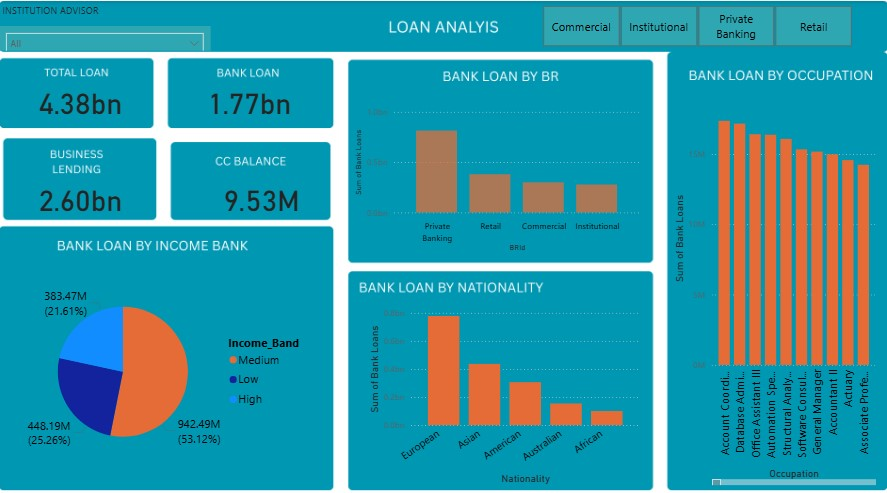

The page's visual inventory and layout, read from the dashboard file:
{"tool":"powerbi","page":{"name":"LOANS ANALYSIS","canvas":[1280,720],"ordinal":1},"visuals":[{"type":"card","fields":{"Values":["Banking_Clients.Total_Loan"]},"box":[21.8,102.5,188.1,79],"z":0},{"type":"card","fields":{"Values":["Sum(Banking_Clients.Business Lending)"]},"box":[21.8,240.2,188.1,79],"z":1000},{"type":"card","fields":{"Values":["Sum(Banking_Clients.Bank Loans)"]},"box":[260.4,102.5,188.1,79],"z":2000},{"type":"card","fields":{"Values":["Sum(Banking_Clients.Credit Card Balance)"]},"box":[277.2,240.2,188.1,79],"z":3000},{"type":"pieChart","fields":{"Category":["Banking_Clients.Income_Band"],"Y":["Sum(Banking_Clients.Bank Loans)"]},"box":[21.8,359.5,426.7,330.9],"z":4000},{"type":"clusteredColumnChart","fields":{"Category":["Banking_Clients.BRId"],"Y":["Sum(Banking_Clients.Bank Loans)"]},"box":[498.9,142.8,414.9,216.7],"z":5000},{"type":"clusteredColumnChart","fields":{"Category":["Banking_Clients.Nationality"],"Y":["Sum(Banking_Clients.Bank Loans)"]},"box":[519.1,428.3,394.8,262],"z":6000},{"type":"clusteredColumnChart","fields":{"Category":["Banking_Clients.Occupation"],"Y":["Sum(Banking_Clients.Bank Loans)"]},"box":[950.8,142.8,297.3,547.6],"z":7000},{"type":"slicer","fields":{"Values":["Banking_Clients.BRId"]},"box":[745.8,0,487.1,70.6],"z":8000},{"type":"textbox","box":[0,0,168,35.3],"z":9000},{"type":"slicer","fields":{"Values":["Banking_Clients.IAId"]},"box":[0,35.3,299.5,35.3],"z":9001}]}

Visuals, with their boxes in screenshot pixels (x1, y1, x2, y2), scaled from the page's 1280x720 canvas onto the 887x493 screenshot:
card - Banking_Clients.Total_Loan: locate(15, 70, 145, 124)
card - Sum(Banking_Clients.Business Lending): locate(15, 164, 145, 219)
card - Sum(Banking_Clients.Bank Loans): locate(180, 70, 311, 124)
card - Sum(Banking_Clients.Credit Card Balance): locate(192, 164, 322, 219)
pieChart - Banking_Clients.Income_Band x Sum(Banking_Clients.Bank Loans): locate(15, 246, 311, 473)
clusteredColumnChart - Banking_Clients.BRId x Sum(Banking_Clients.Bank Loans): locate(346, 98, 633, 246)
clusteredColumnChart - Banking_Clients.Nationality x Sum(Banking_Clients.Bank Loans): locate(360, 293, 633, 473)
clusteredColumnChart - Banking_Clients.Occupation x Sum(Banking_Clients.Bank Loans): locate(659, 98, 865, 473)
slicer - Banking_Clients.BRId: locate(517, 0, 854, 48)
textbox: locate(0, 0, 116, 24)
slicer - Banking_Clients.IAId: locate(0, 24, 208, 48)
